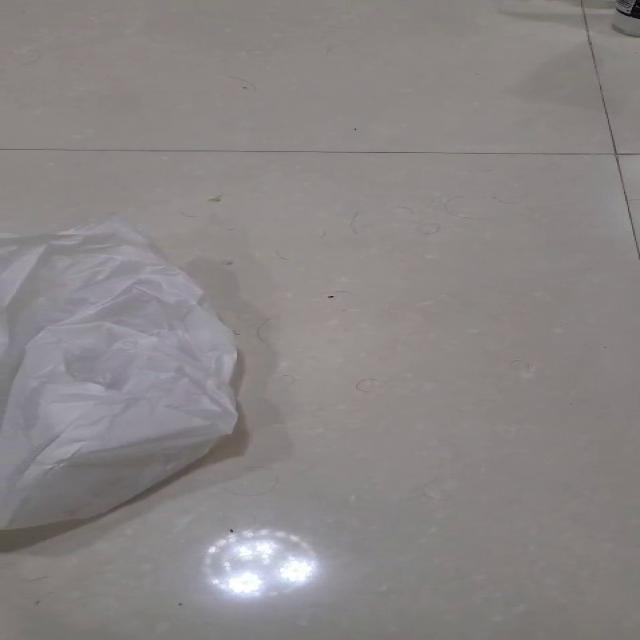plastic: (0, 212, 240, 530)
